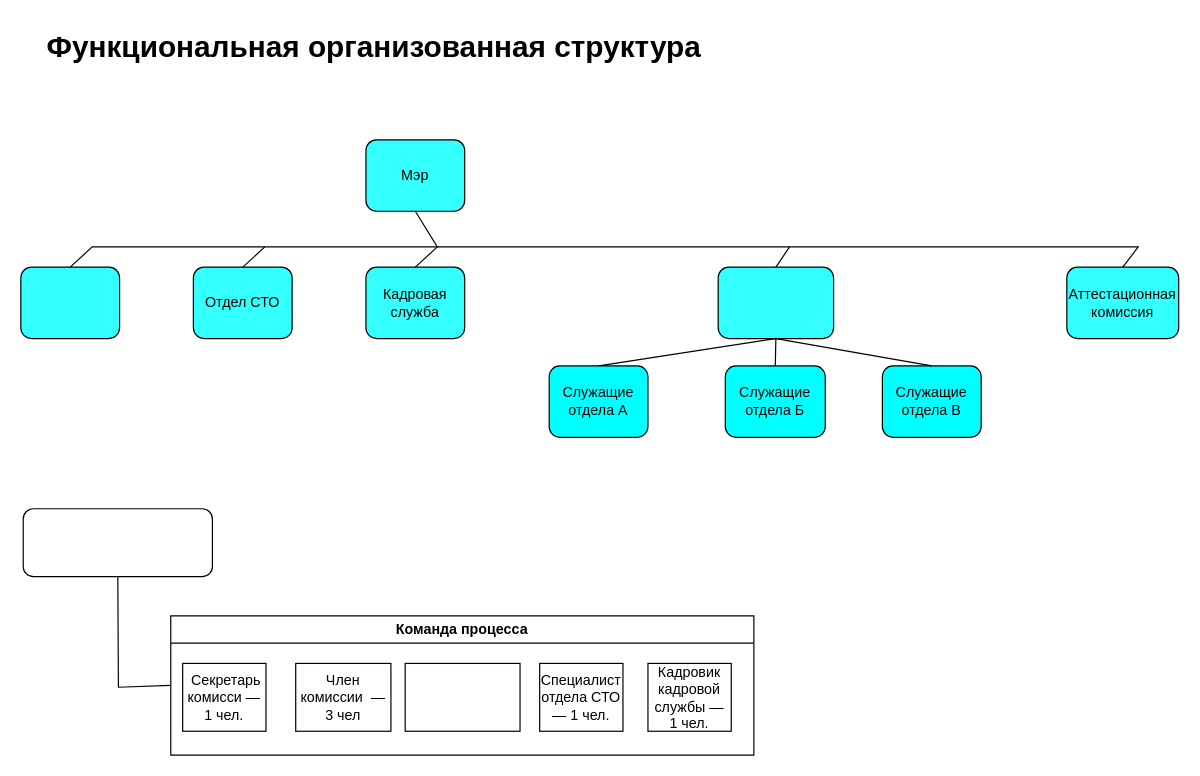
The diagram is 1200 pixels wide and 776 high, and some of its shapes have lost their labels. The centre of each missing label's shape, as x and y in pixels:
"Владелец процесса: Аттестации муниципальных служащих" belongs at point (117, 542).
"Психолог / Эксперт — 1 чел" belongs at point (462, 696).
"Руководители департаментов" belongs at point (775, 302).
"Секретариат" belongs at point (70, 302).
